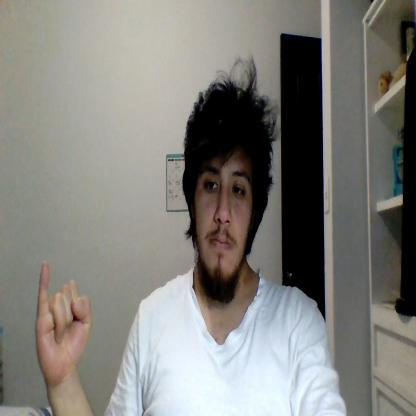I: (36, 261, 92, 387)
